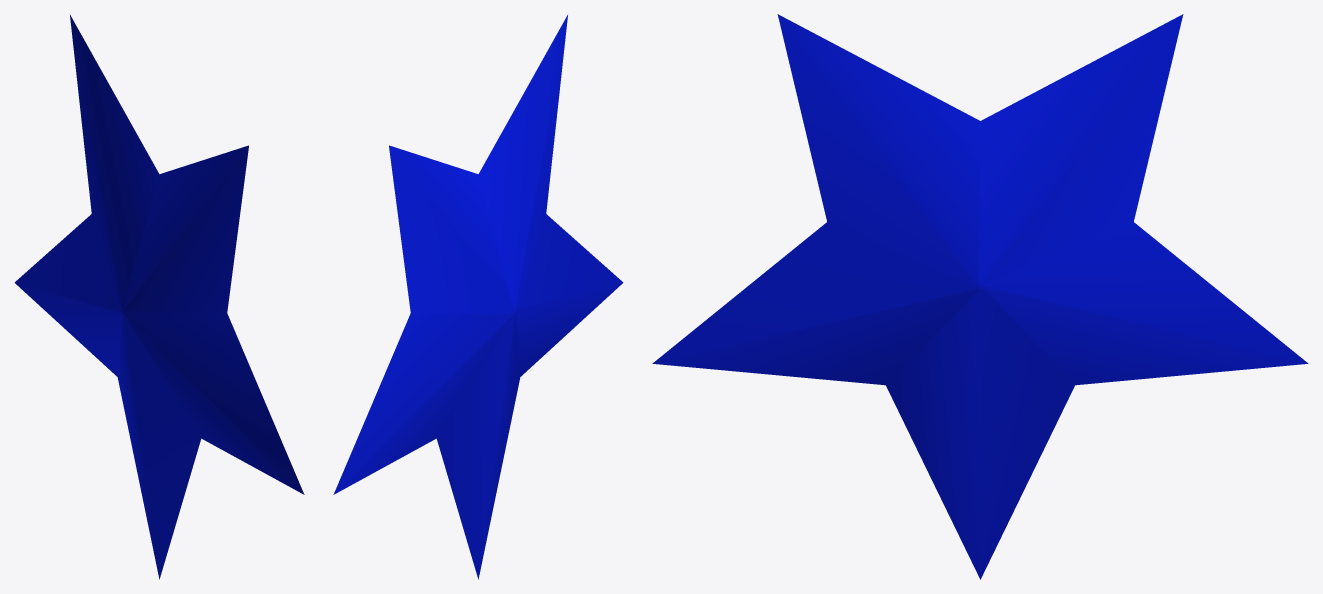
File: star.fbx
The picture shows the model from 3 angles, left to right: view 1: azimuth 30°, elevation 25°; view 2: azimuth 150°, elevation 25°; view 3: azimuth 270°, elevation 25°; orthographic projection. The views are drawn at different scales.
Parts seen in each view (by area): view 1: Cylinder001; view 2: Cylinder001; view 3: Cylinder001.
Boxes of the visible parts, <box> form: Cylinder001: <box>14,15,304,579</box>; Cylinder001: <box>333,15,623,579</box>; Cylinder001: <box>652,14,1308,579</box>.
Size of the model in its own units: 1.55 by 10.33 by 10.86.
